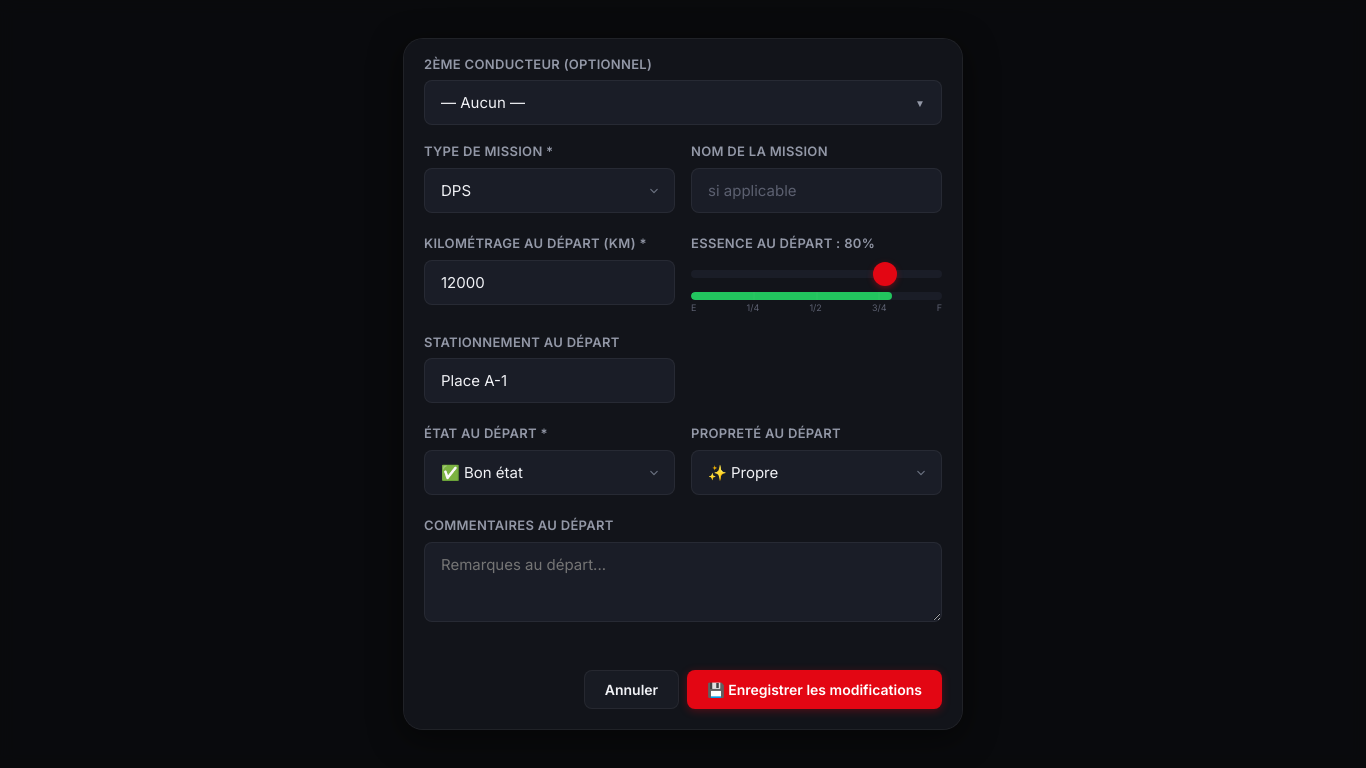
Test: EditCheckOutModal › affiche une erreur si la modification échoue
(page scrolled)
Click the button "💾 Enregistrer les modifications": x=815, y=689 [687,670,942,709]
(page scrolled)
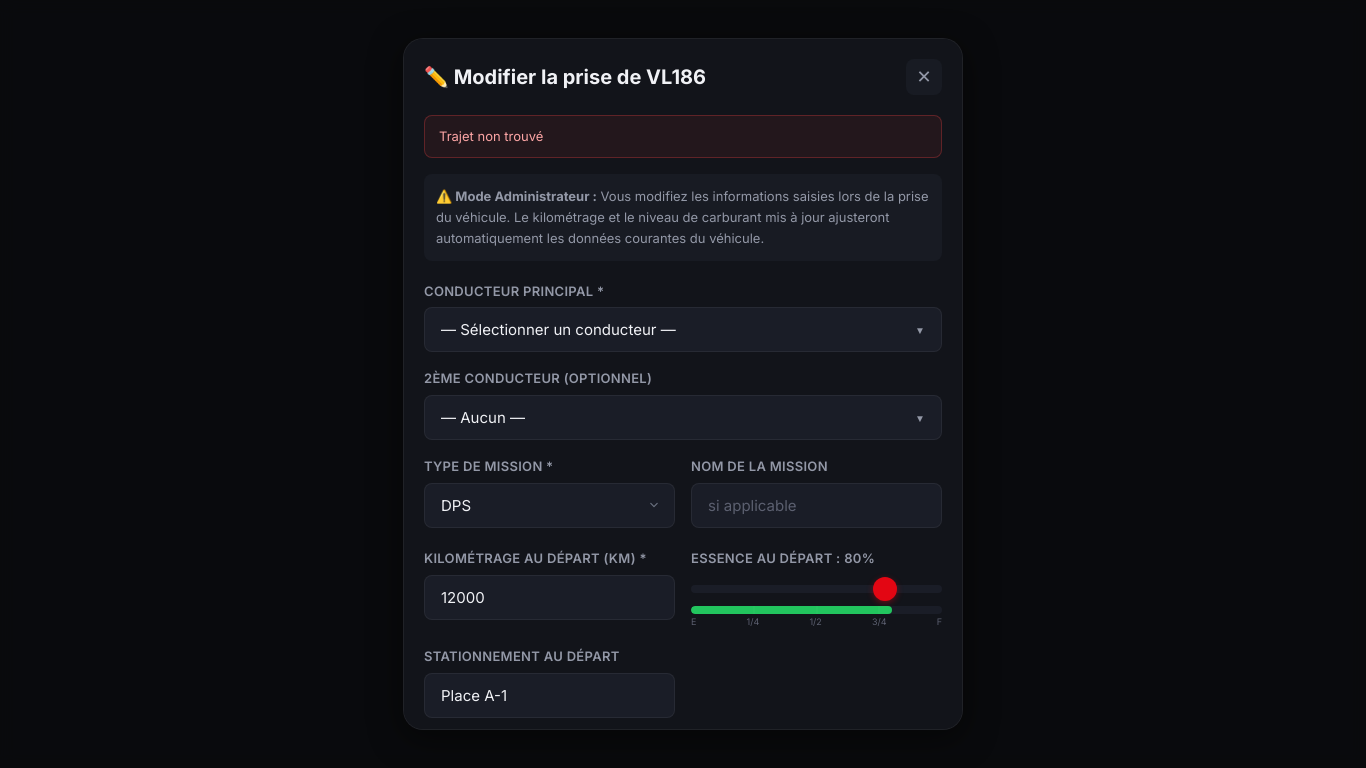
Now the text "Trajet non trouvé" is shown, box [424,115,942,158]
